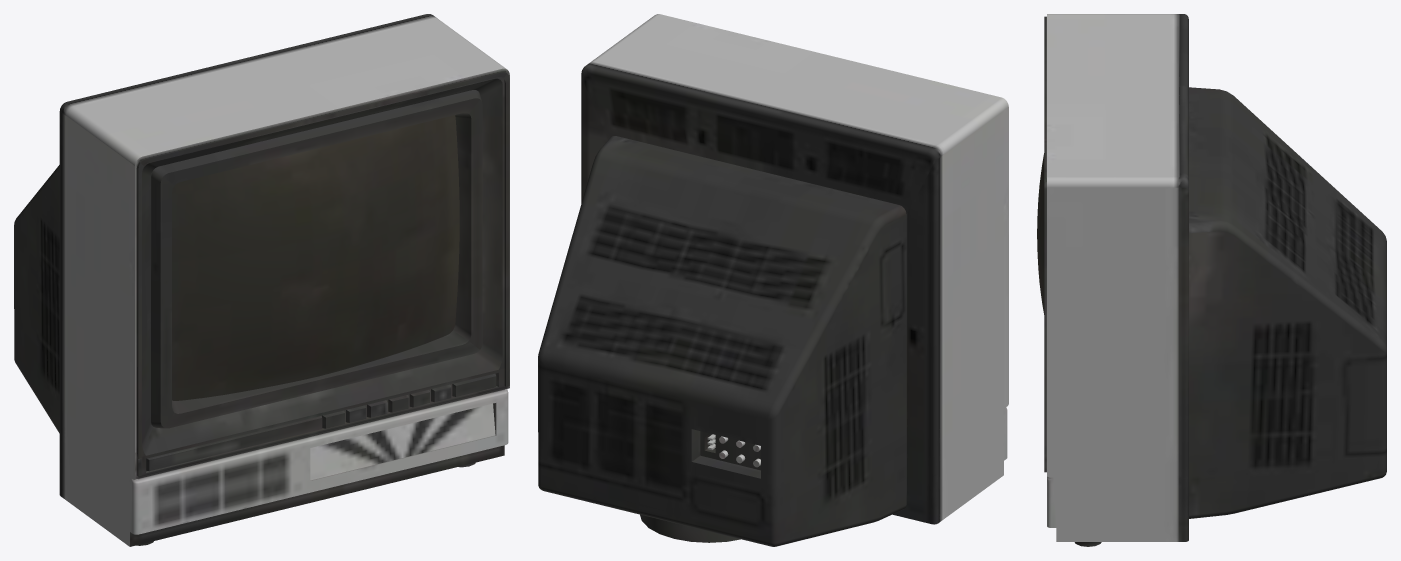
The picture shows the model from 3 angles, left to right: view 1: azimuth 30°, elevation 25°; view 2: azimuth 150°, elevation 25°; view 3: azimuth 270°, elevation 25°; orthographic projection. The views are drawn at different scales.
Visible parts, largest first — view 1: television_02; view 2: television_02; view 3: television_02.
Boxes of the visible parts, x1,y1,x2,y2 form: television_02: (14,14,509,546); television_02: (538,14,1008,546); television_02: (1037,14,1386,546).
Bounding box in the file's own units: 0.3998 × 0.4114 × 0.3502.
1 material, 1 textured.
